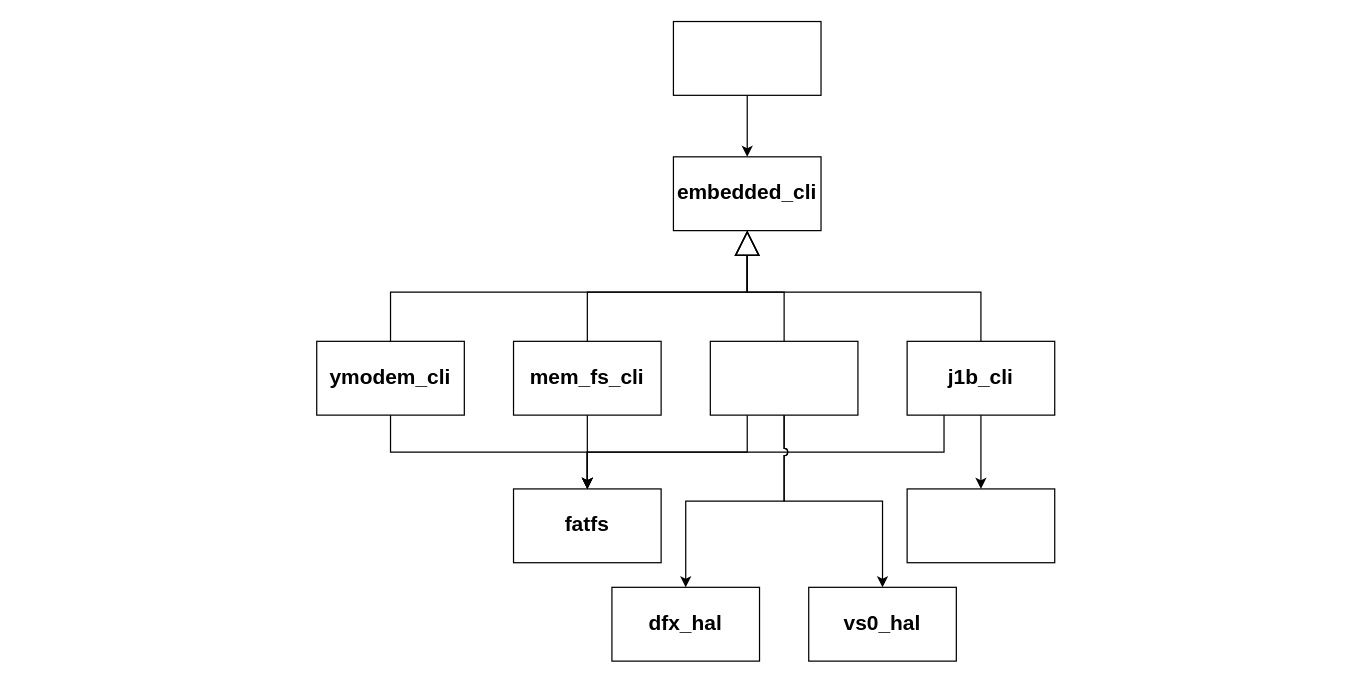
This 1370x683 diagram has some shape labels left out. The shapes that lost their labels are listed below. From the top down, each one's centre as x and y in pixels, then its label:
At point (746, 57): "dfx_test".
At point (783, 377): "dfx_cli".
At point (980, 525): "j1b_hal".
